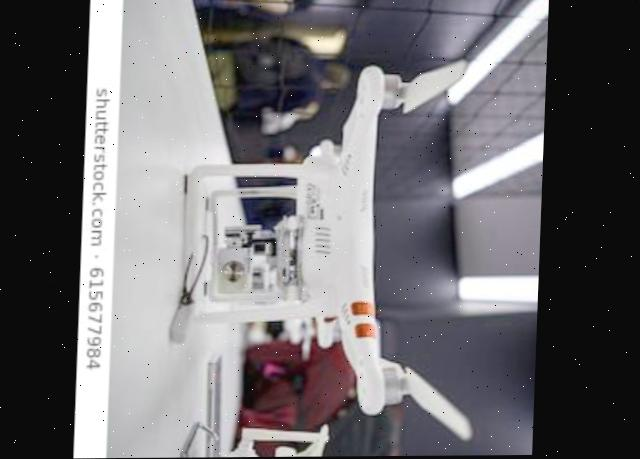drone: (149, 48, 490, 450)
